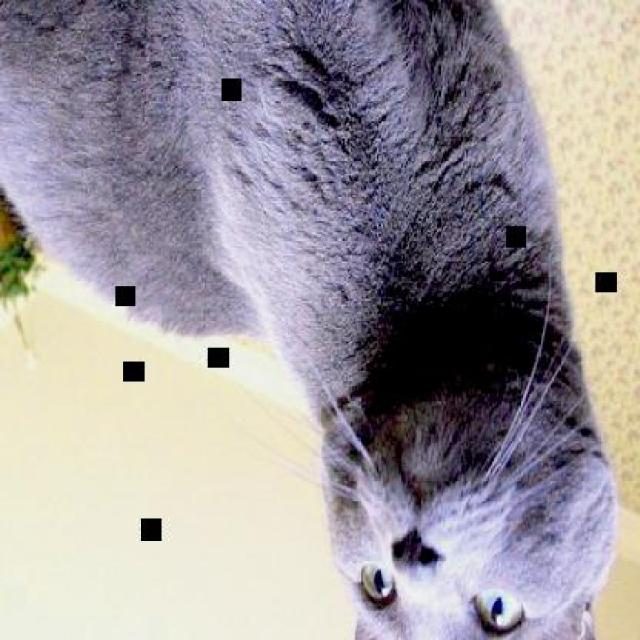cat: (2, 2, 620, 640)
